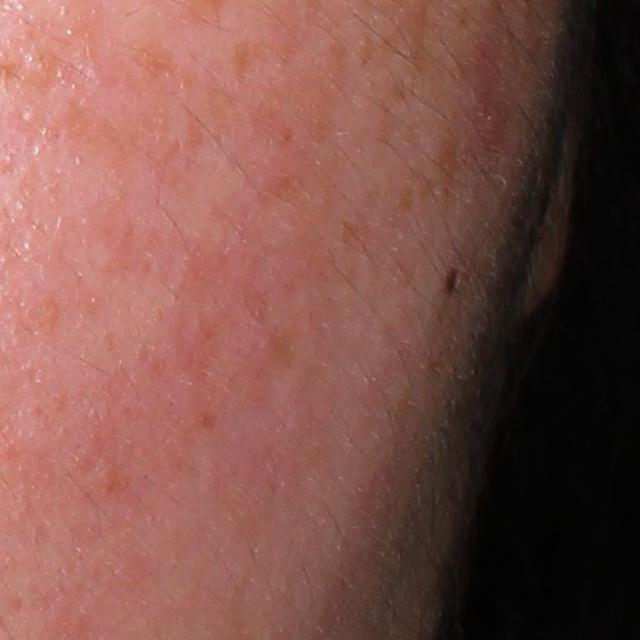melasma: (126, 36, 200, 109), (227, 37, 270, 89)
